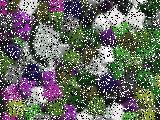Left: (23, 18, 60, 72)
